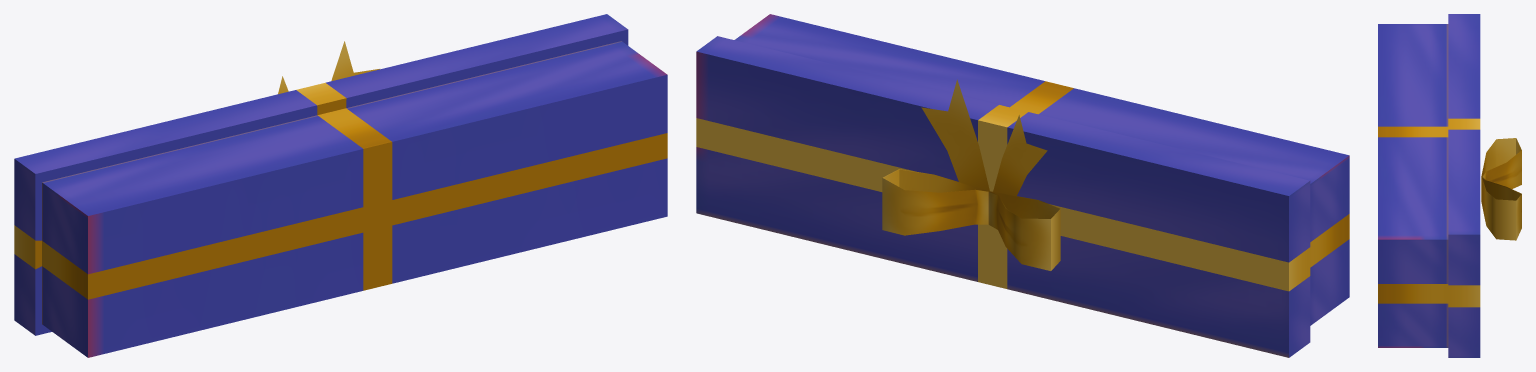
The model's file is Present_G.fbx.
The picture shows the model from 3 angles, left to right: view 1: azimuth 30°, elevation 25°; view 2: azimuth 150°, elevation 25°; view 3: azimuth 270°, elevation 25°; orthographic projection. The views are drawn at different scales.
Parts seen in each view (by area): view 1: Present_G; view 2: Present_G; view 3: Present_G.
Part boxes in pixels (<box>): Present_G: <box>14,14,667,357</box>; Present_G: <box>696,14,1349,357</box>; Present_G: <box>1378,14,1521,357</box>.
Size of the model in its own units: 52.84 by 16.92 by 14.56.
